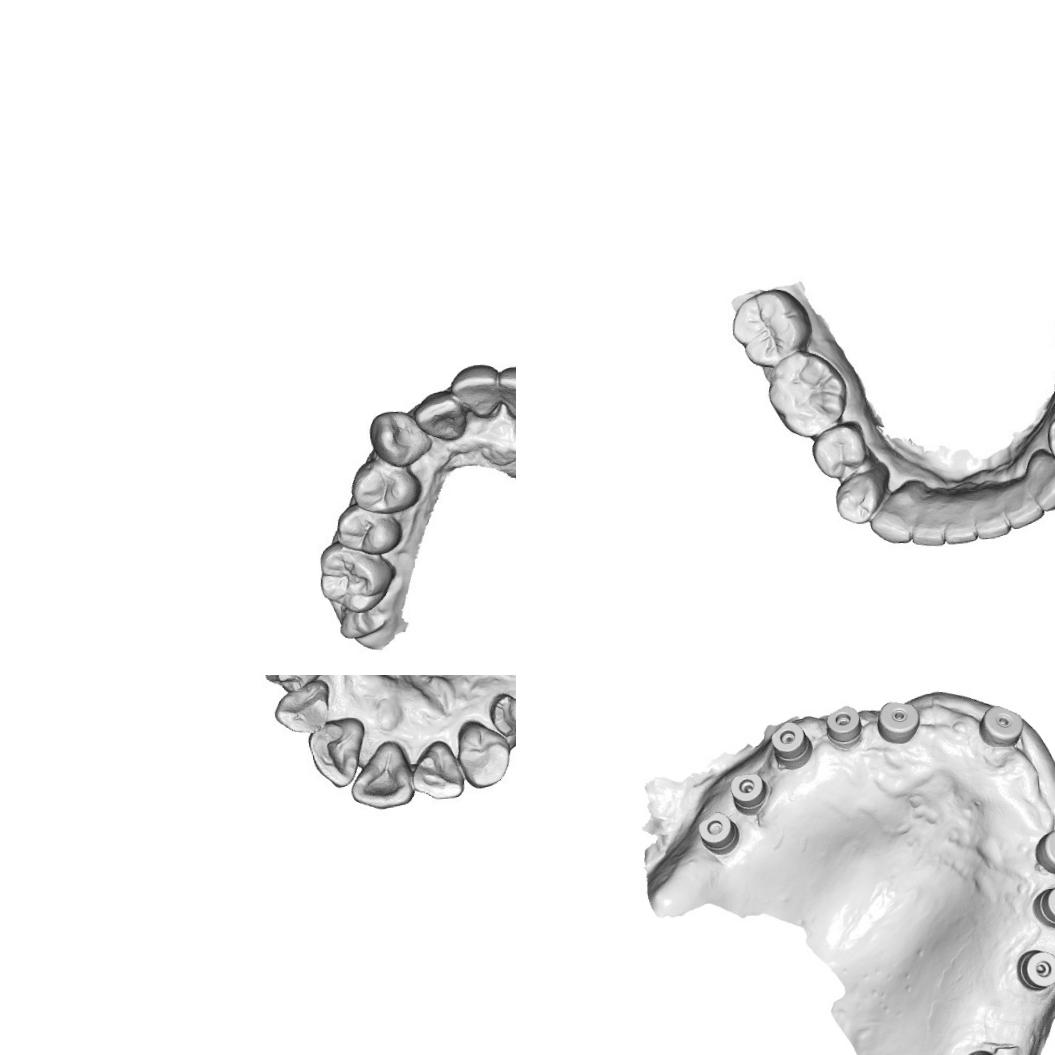canine: (452, 714, 514, 793), (364, 409, 431, 466), (865, 483, 922, 546), (1023, 444, 1055, 514)
implant: (765, 717, 815, 768), (694, 807, 741, 856), (977, 702, 1026, 748), (876, 696, 919, 745), (728, 769, 774, 811), (1016, 946, 1055, 993), (823, 702, 862, 743), (1033, 824, 1055, 874), (1034, 882, 1055, 926)
incisor: (344, 735, 419, 812), (304, 716, 370, 792), (407, 737, 464, 802), (408, 388, 466, 444), (450, 362, 503, 418), (906, 486, 948, 552), (1000, 473, 1045, 531), (971, 482, 1010, 542), (939, 487, 978, 547), (499, 362, 516, 418)
molar: (762, 353, 850, 438), (310, 538, 402, 616), (728, 284, 814, 367)
premolar: (337, 504, 401, 560), (807, 421, 868, 478), (832, 467, 888, 526), (353, 459, 414, 508)
